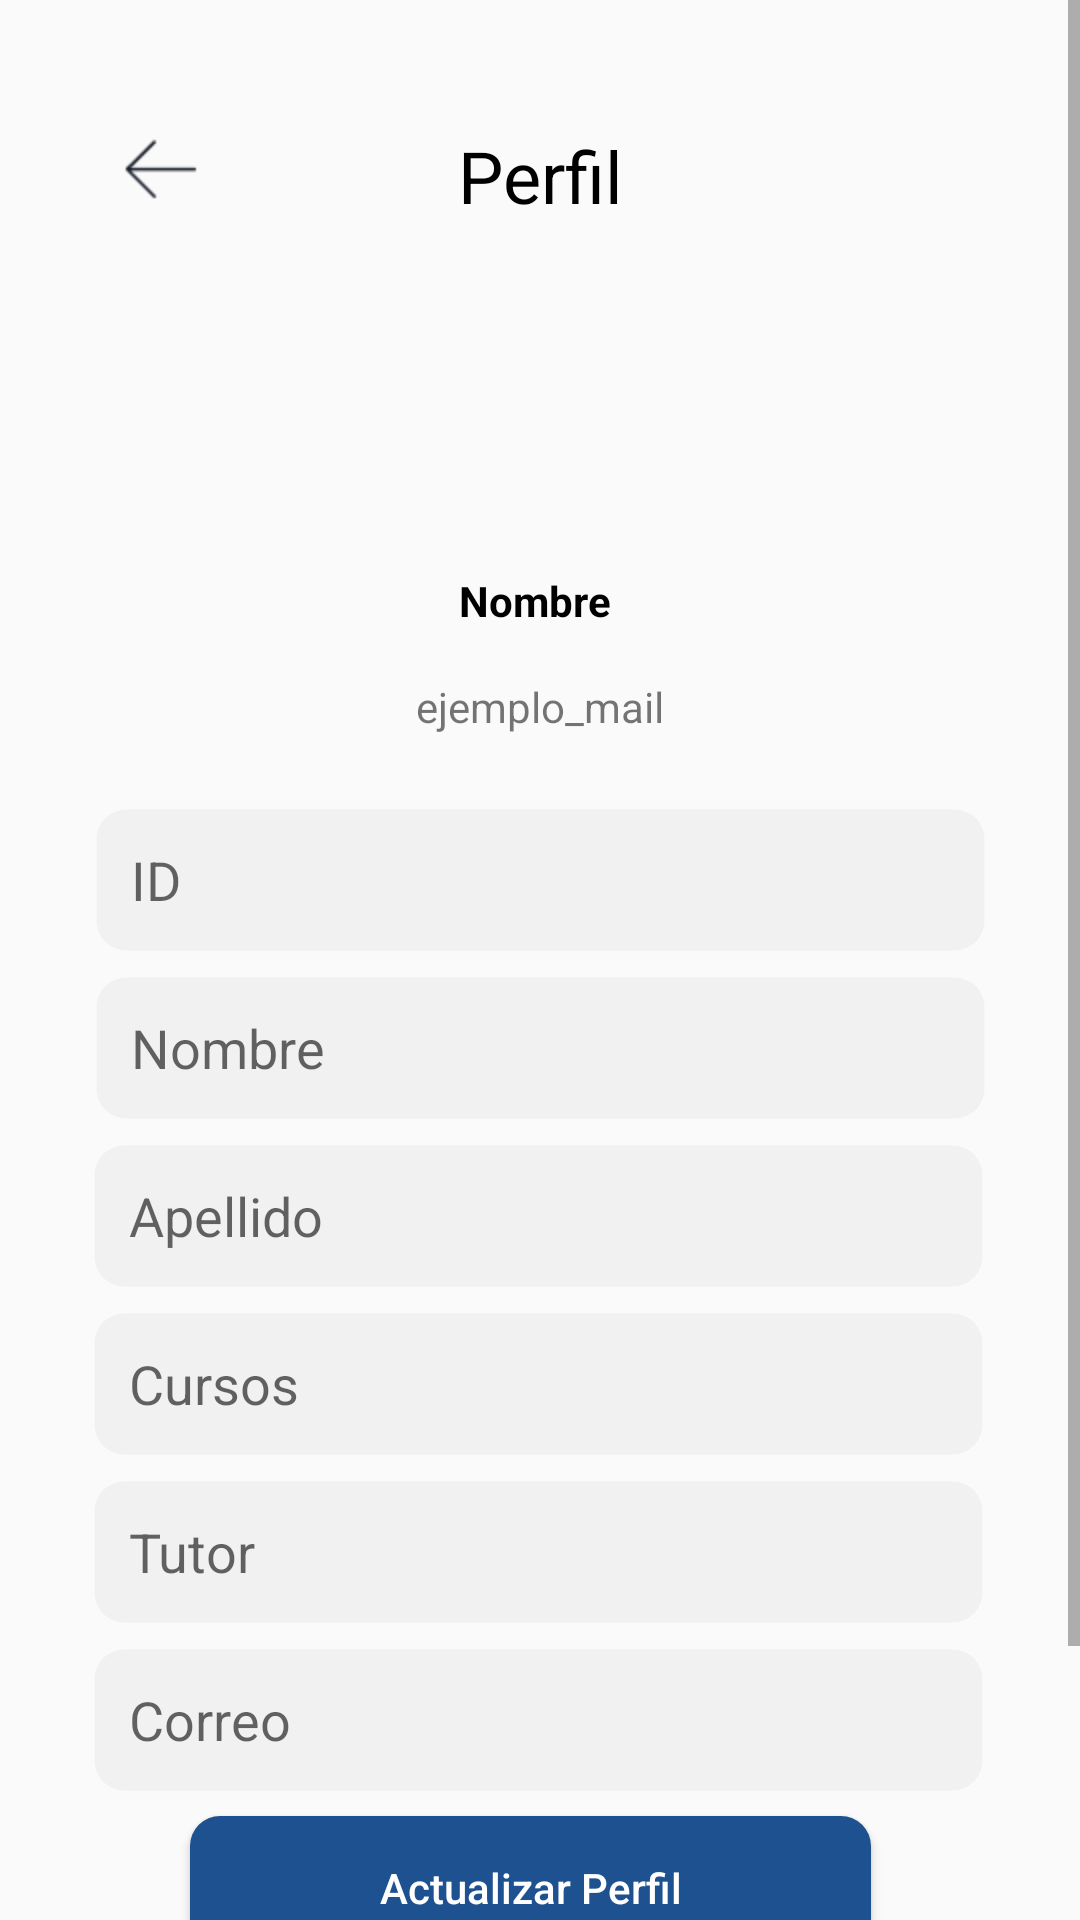

Where icons sit on this 1080 x 1920 app screen, as [x1, y1, x2, y2]:
arrow: [125, 139, 197, 199]
